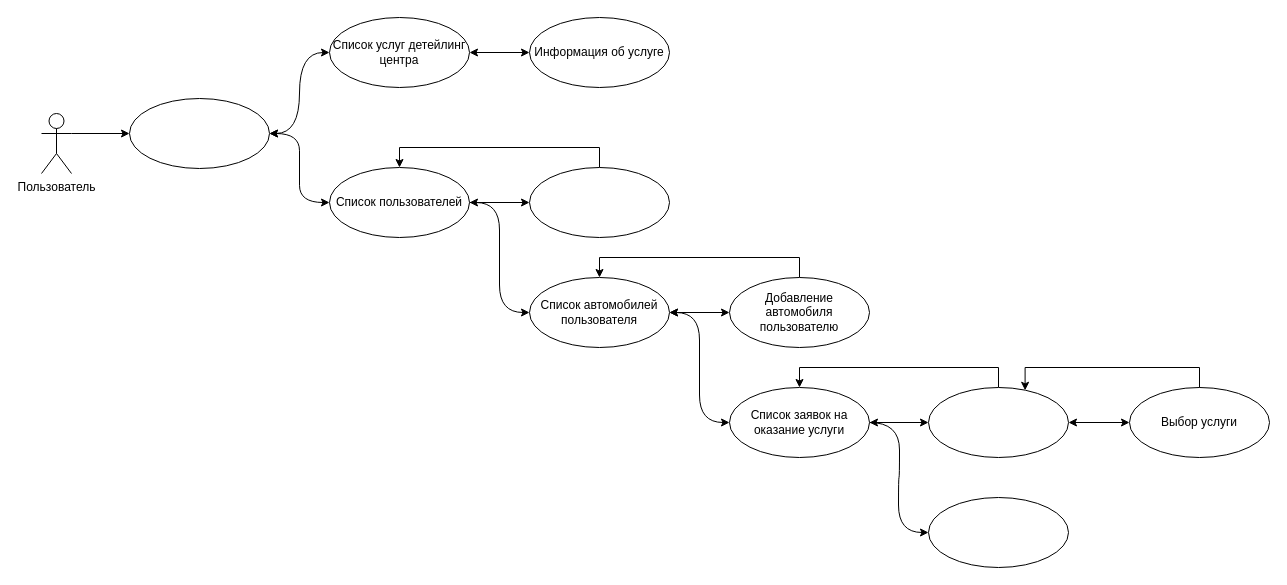
Image size: 1287x585. Some labels were removed from this diagram. The box of each missing label's shape, as (x1, y1, x2, y2) in pixels:
Главная форма приложения: (128, 98, 270, 168)
Добавление пользователя: (528, 166, 670, 238)
Информация о заявке: (928, 496, 1068, 568)
Оформление заявки: (928, 386, 1068, 458)
